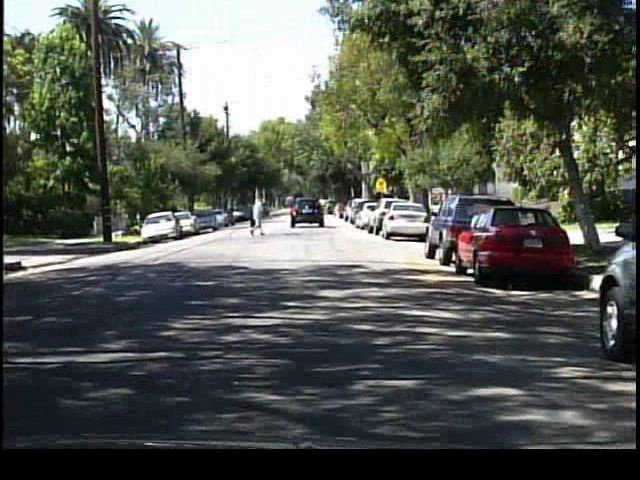person: (245, 205, 270, 247)
